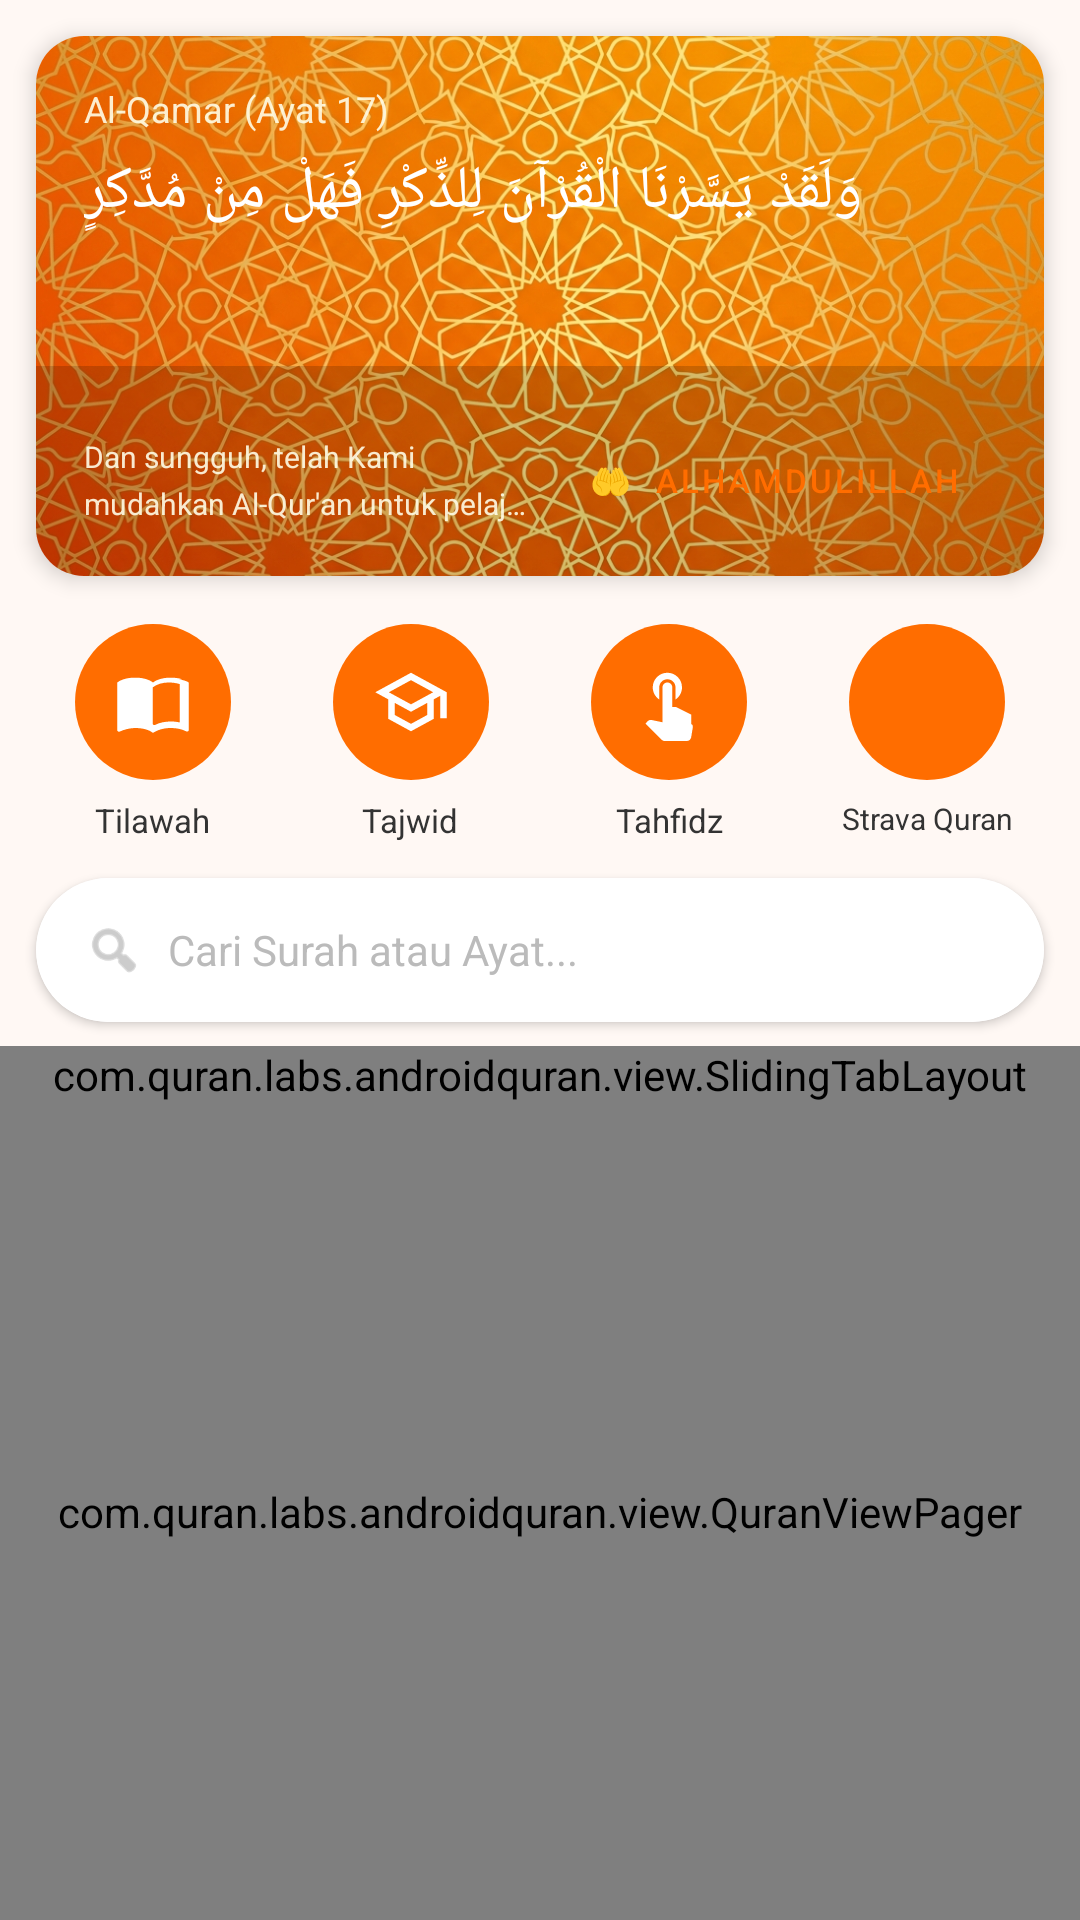

Named icons in this screenshot (1080px x 1920px) and their bounding boxes, (x1, y1, x2, y2):
search: (92, 928, 136, 972)
